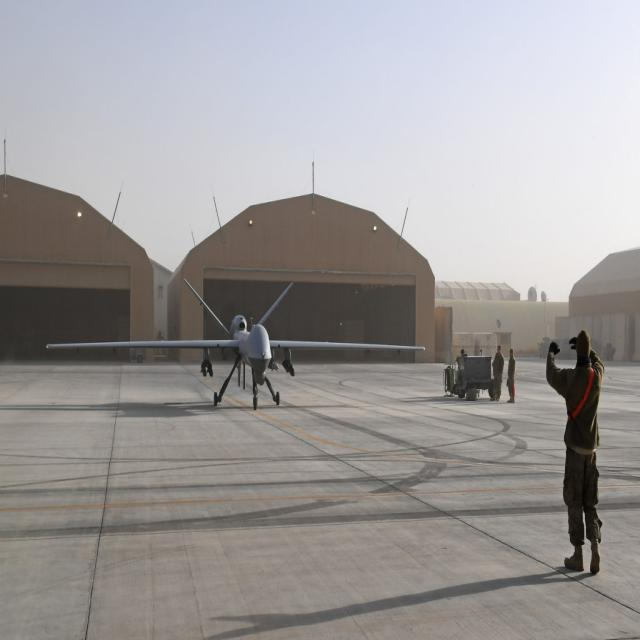MIL_Plane: (46, 278, 426, 410)
